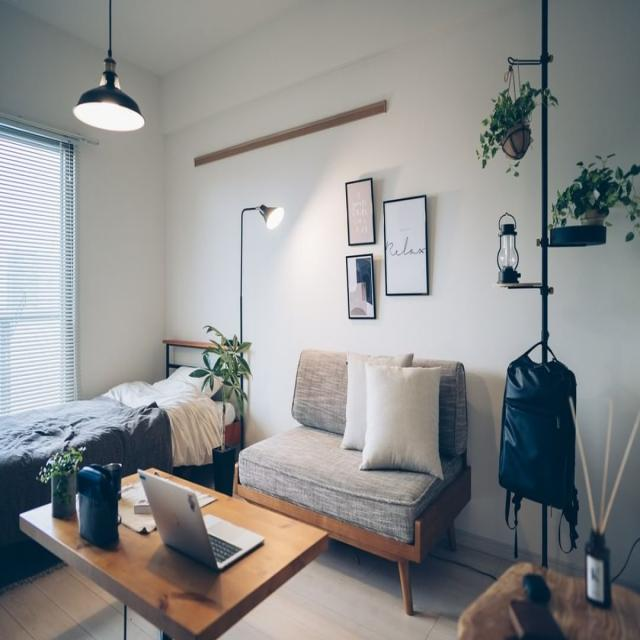modern desk: (22, 458, 334, 638)
modern sofa: (237, 344, 473, 537)
